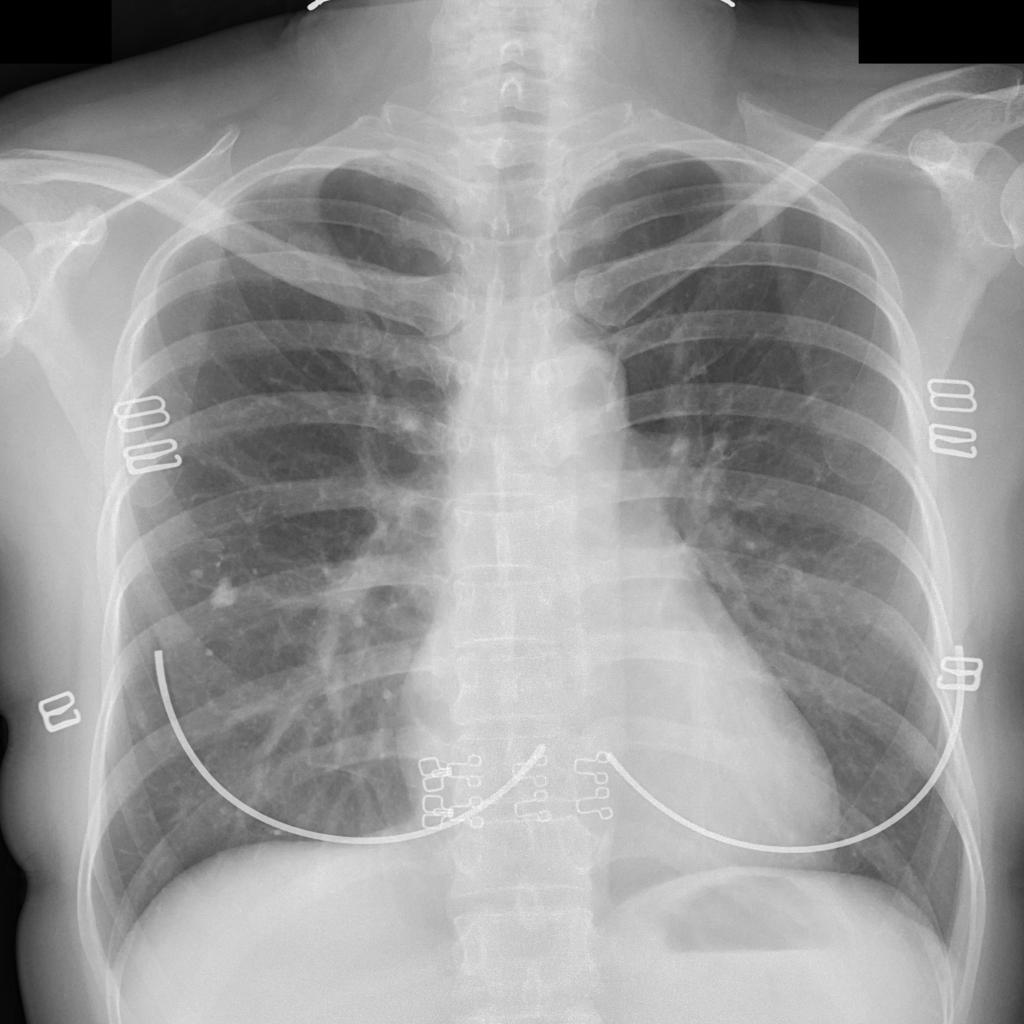Nodule: (204, 577, 243, 614), (204, 540, 226, 555), (191, 566, 204, 581), (203, 651, 216, 660)
